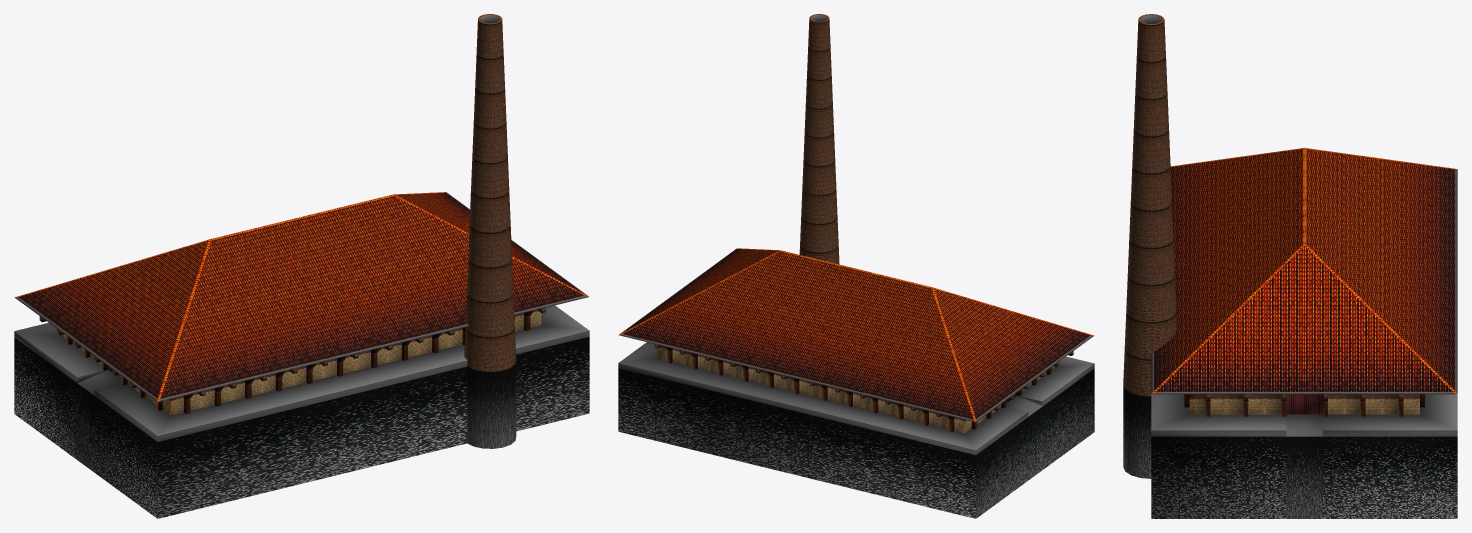
File: steenfabriek_mod1_1a.fbx
3 views of the same model, side by side, from view 1: azimuth 30°, elevation 25°; view 2: azimuth 150°, elevation 25°; view 3: azimuth 270°, elevation 25° (orthographic). The views are drawn at different scales.
Visible parts, largest first — view 1: steenfabriek_mod1_1a; view 2: steenfabriek_mod1_1a; view 3: steenfabriek_mod1_1a.
Part boxes in pixels (x1,y1,x2,y2): steenfabriek_mod1_1a: (14, 14, 589, 518); steenfabriek_mod1_1a: (618, 14, 1094, 518); steenfabriek_mod1_1a: (1123, 14, 1457, 518).
Size of the model in its own units: 5290 by 4900 by 3320.
